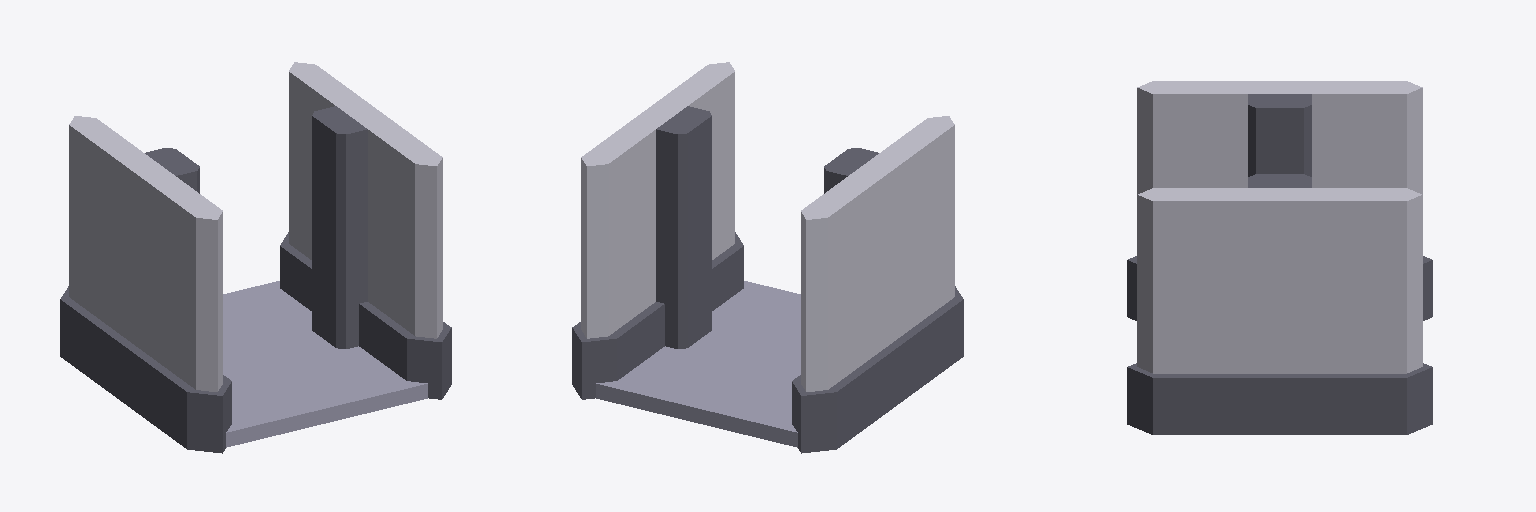
Rendered from sm_hallway_03.obj.
3 views of the same model, side by side, from view 1: azimuth 30°, elevation 25°; view 2: azimuth 150°, elevation 25°; view 3: azimuth 270°, elevation 25° (orthographic).
Visible parts, largest first — view 1: wall_02_171, wall_02_170, floor_square_169; view 2: wall_02_171, wall_02_170, floor_square_169; view 3: wall_02_170, wall_02_171.
Part boxes in pixels (left/top/right/bottom): wall_02_171: left=60, top=116, right=231, bottom=453; wall_02_170: left=280, top=62, right=451, bottom=399; floor_square_169: left=223, top=281, right=427, bottom=447; wall_02_171: left=792, top=116, right=963, bottom=453; wall_02_170: left=572, top=62, right=743, bottom=399; floor_square_169: left=596, top=281, right=800, bottom=447; wall_02_170: left=1127, top=174, right=1432, bottom=434; wall_02_171: left=1127, top=81, right=1432, bottom=320.
Size of the model in its own units: 1.21 by 1 by 1.21.